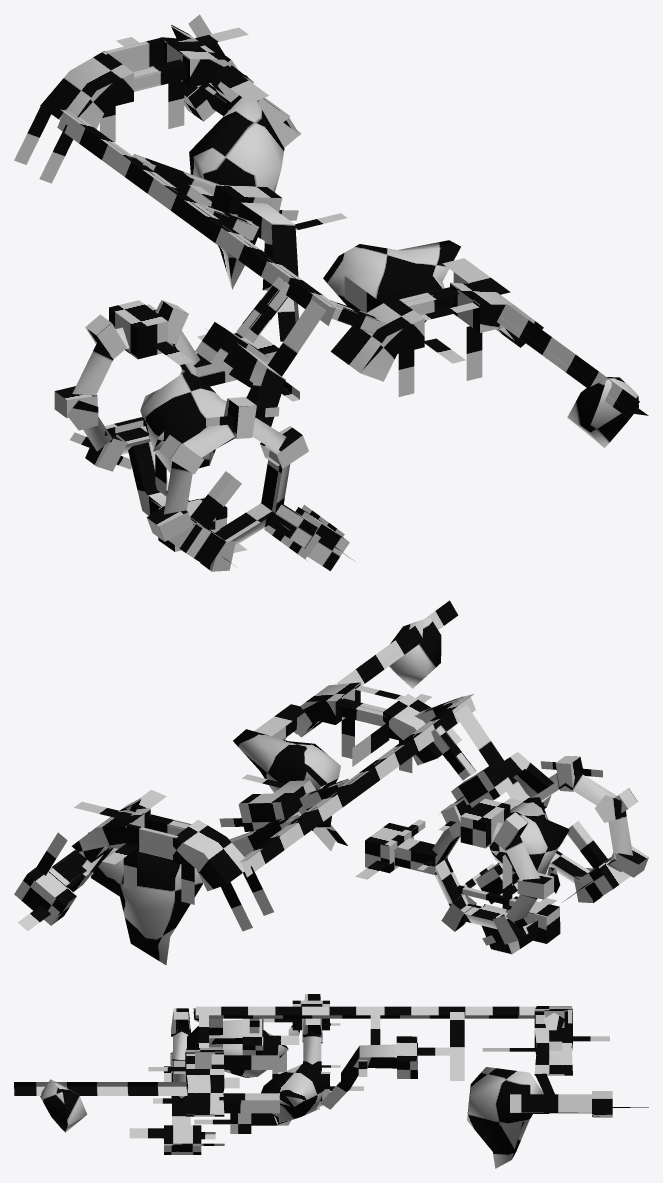
The model's file is asset-mmo-mining-station-b.obj.
3 renders of one model, top to bottom at view 1: azimuth 30°, elevation 25°; view 2: azimuth 150°, elevation 25°; view 3: azimuth 270°, elevation 25°, orthographic. The views are drawn at different scales.
Parts seen in each view (by area): view 1: asset_mmo_miningstation_b; view 2: asset_mmo_miningstation_b; view 3: asset_mmo_miningstation_b.
Part boxes in pixels (x1=…): asset_mmo_miningstation_b: x1=14, y1=14, x2=648, y2=571; asset_mmo_miningstation_b: x1=14, y1=600, x2=648, y2=964; asset_mmo_miningstation_b: x1=14, y1=994, x2=648, y2=1168.
Size of the model in its own units: 193 by 129 by 398.
1 material, 1 textured.
